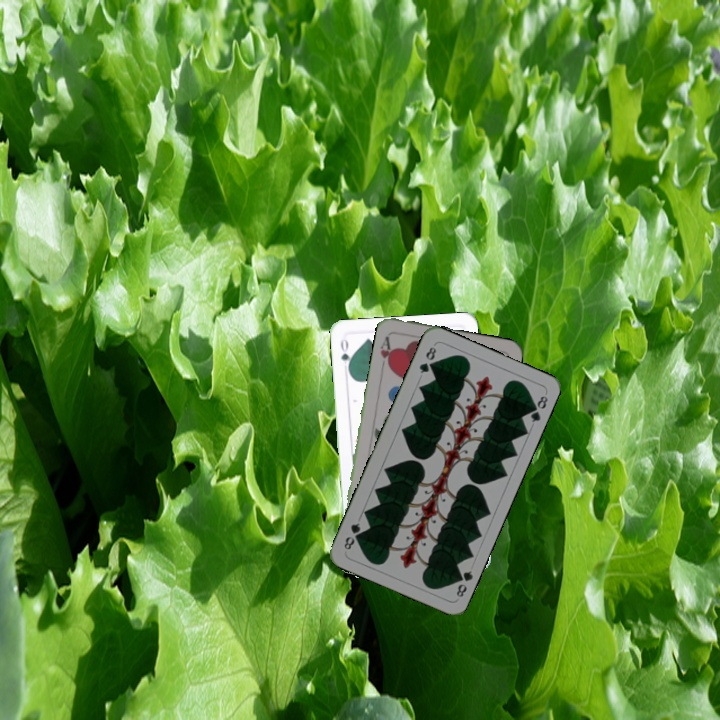G8: (451, 566, 475, 600), (415, 343, 439, 376)
GO: (337, 334, 354, 375)
HA: (376, 332, 396, 371)
